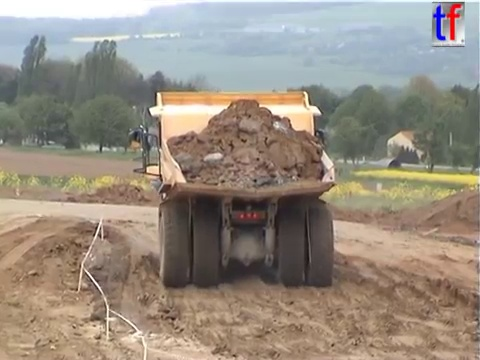truck: (126, 88, 337, 289)
